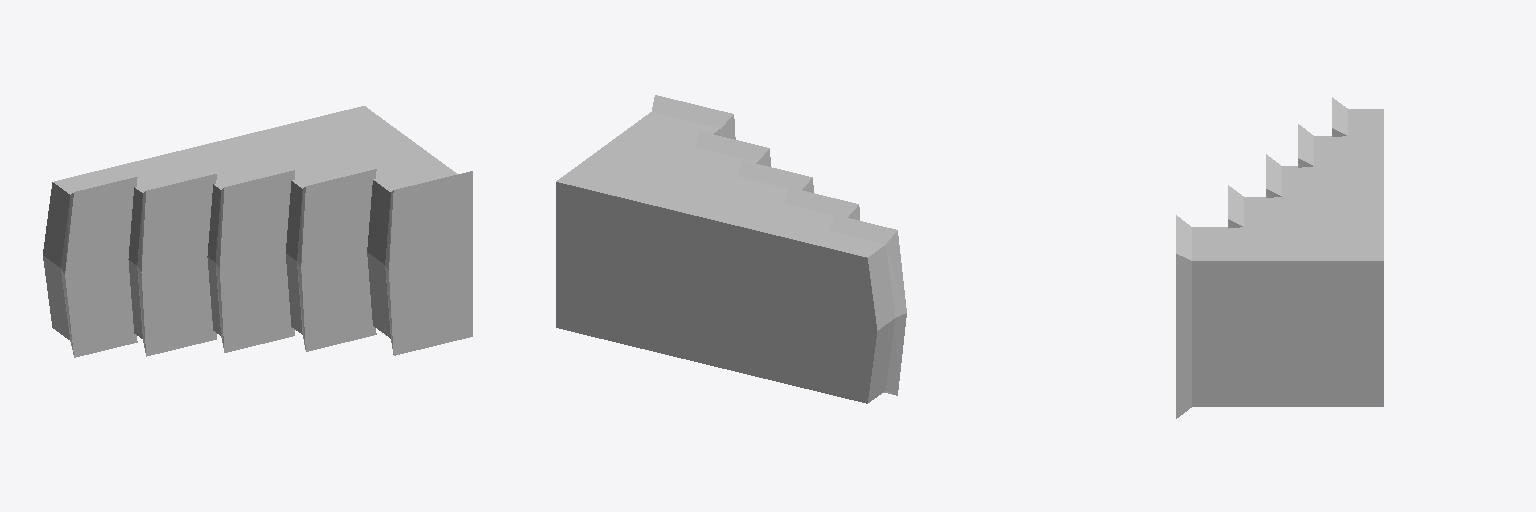
File: Escalera.obj
The picture shows the model from 3 angles: view 1: azimuth 30°, elevation 25°; view 2: azimuth 150°, elevation 25°; view 3: azimuth 270°, elevation 25°; orthographic projection.
Parts seen in each view (by area): view 1: EscaleraOOOH; view 2: EscaleraOOOH; view 3: EscaleraOOOH.
Part boxes in pixels (x1,y1,x2,y2): EscaleraOOOH: (43,106,472,357); EscaleraOOOH: (556,95,906,403); EscaleraOOOH: (1176,97,1383,418).
Size of the model in its own units: 225 by 108 by 123.